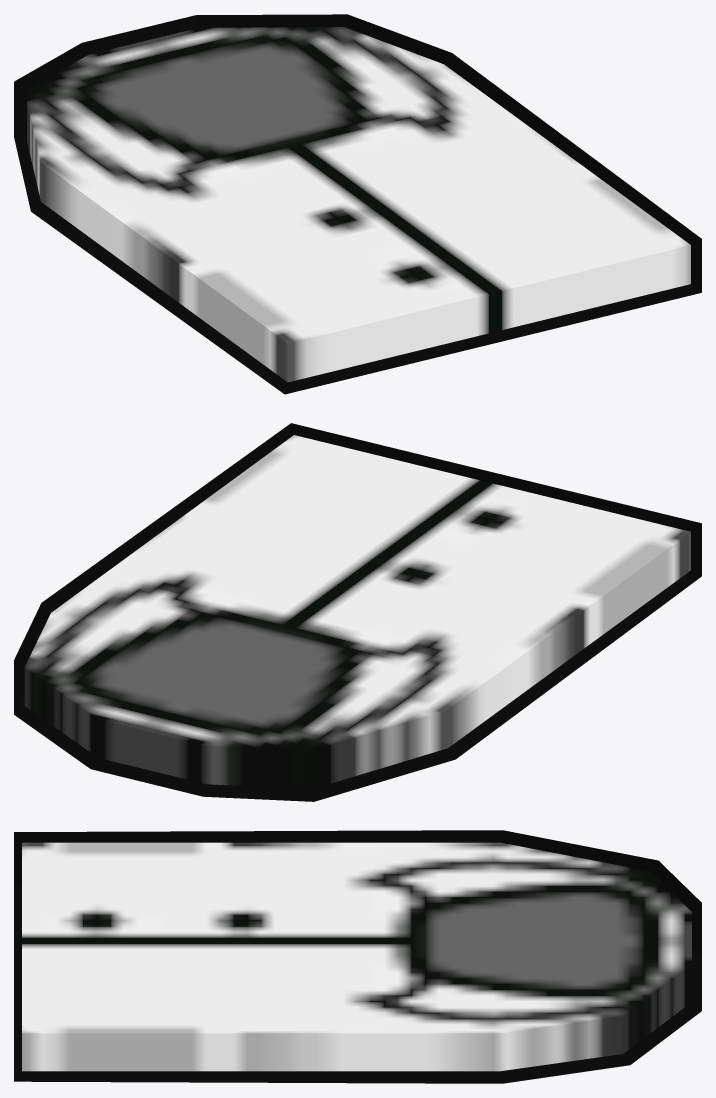
The model's file is Item_Apparel_KidParka_Things_Pawn_Humanlike_Apparel_KidParka_KidParka_Child.glb.
3 views of the same model, one above another, from view 1: azimuth 30°, elevation 25°; view 2: azimuth 150°, elevation 25°; view 3: azimuth 270°, elevation 25° (orthographic). The views are drawn at different scales.
Visible parts, largest first — view 1: Body, Outline; view 2: Body, Outline; view 3: Body, Outline.
Boxes of the visible parts, x1,y1,x2,y2 form: Body: (24,27,690,382); Outline: (14,14,701,394); Body: (24,435,690,789); Outline: (14,423,701,801); Body: (22,842,691,1071); Outline: (14,830,701,1083).
Bounding box in the file's own units: 0.2692 × 0.0344 × 0.393.
Materials: 2 (1 with a texture image).
